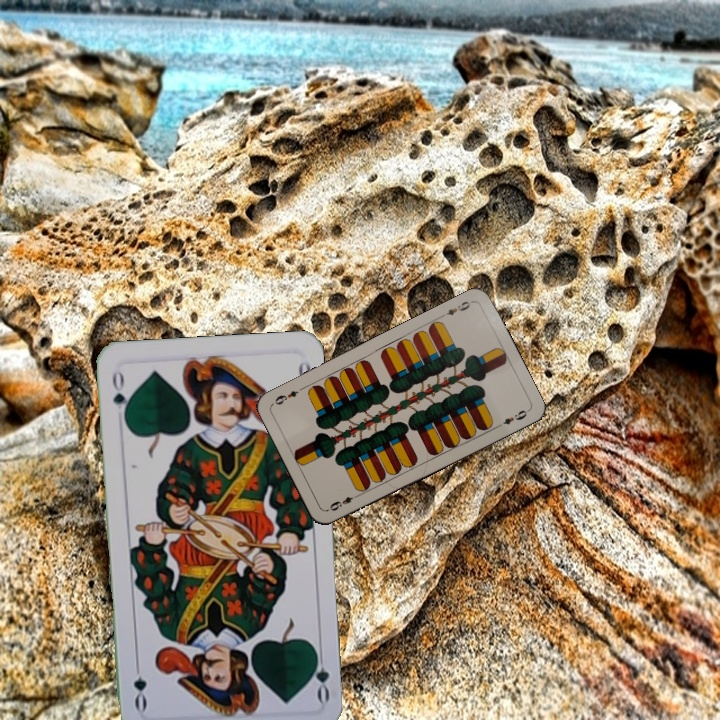E9: (324, 490, 362, 514), (437, 297, 476, 320)
GO: (307, 645, 332, 704), (108, 366, 132, 425)
